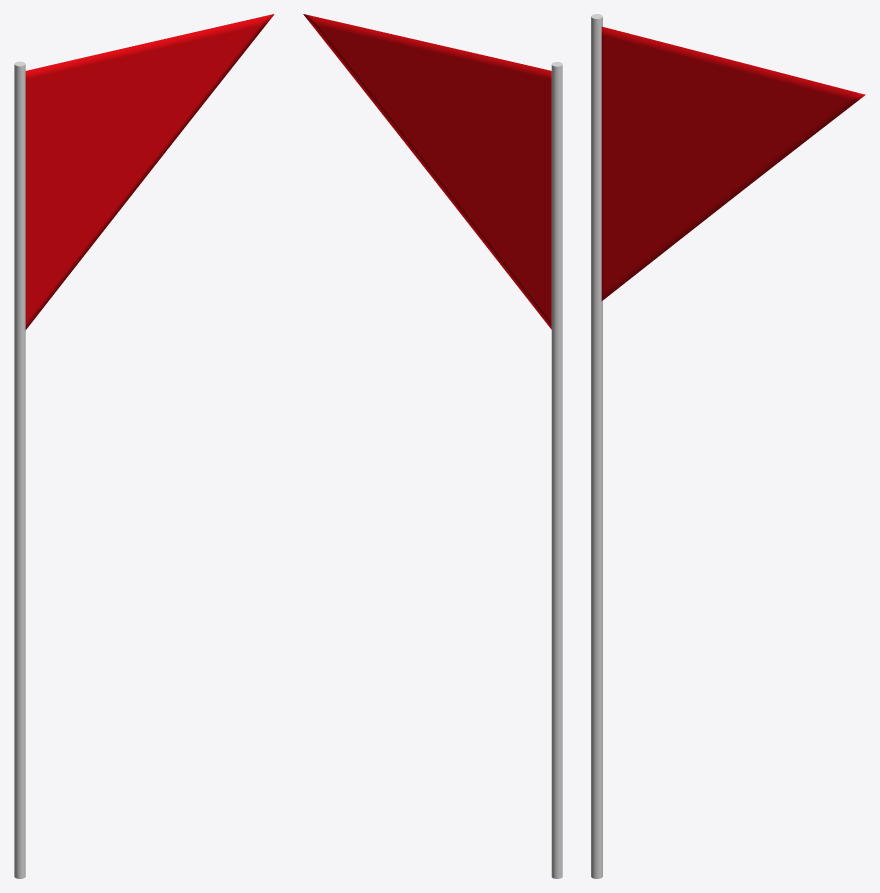
Rendered from Flag.fbx.
The picture shows the model from 3 angles, left to right: view 1: azimuth 30°, elevation 25°; view 2: azimuth 150°, elevation 25°; view 3: azimuth 330°, elevation 25°; orthographic projection. The views are drawn at different scales.
Parts seen in each view (by area): view 1: Flag1, FlagBase1; view 2: Flag1, FlagBase1; view 3: Flag1, FlagBase1.
Boxes of the visible parts, x1,y1,x2,y2 form: Flag1: (25, 14, 274, 329); FlagBase1: (14, 61, 25, 878); Flag1: (303, 14, 551, 329); FlagBase1: (551, 62, 562, 878); Flag1: (601, 26, 865, 300); FlagBase1: (591, 14, 602, 878).
Bounding box in the file's own units: 205 × 614 × 7.64.
